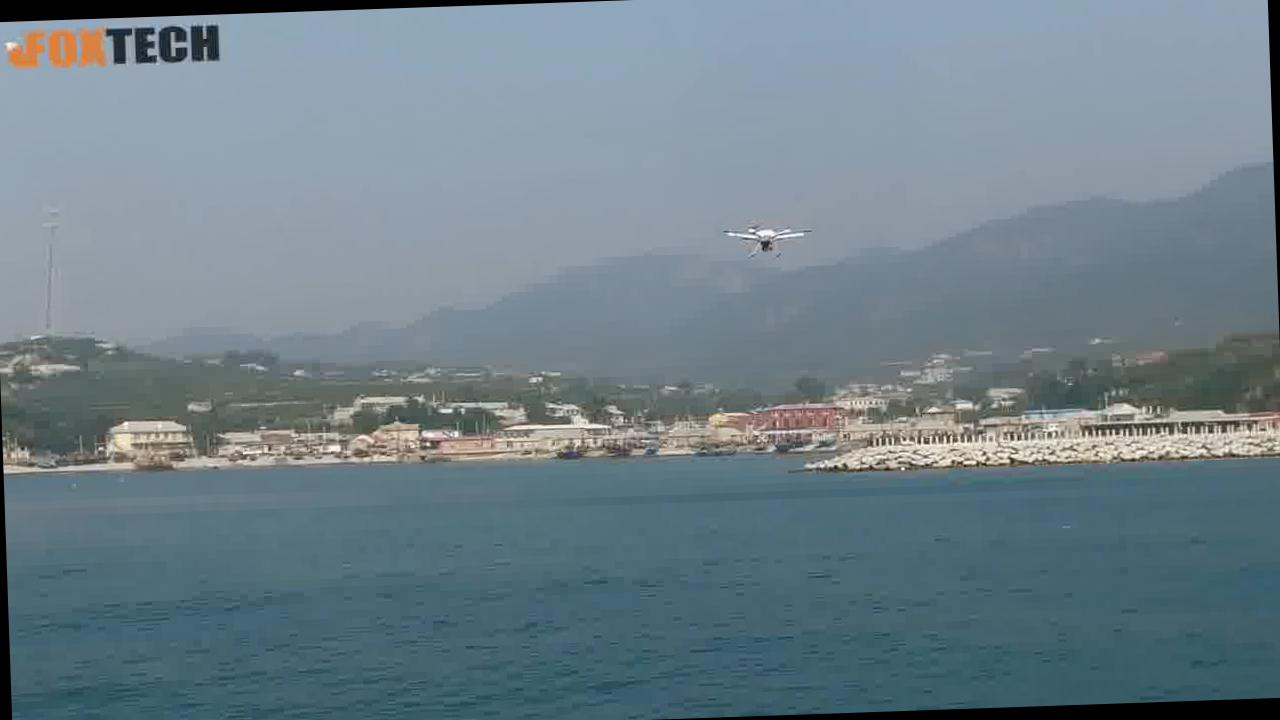drone: (717, 206, 822, 276)
